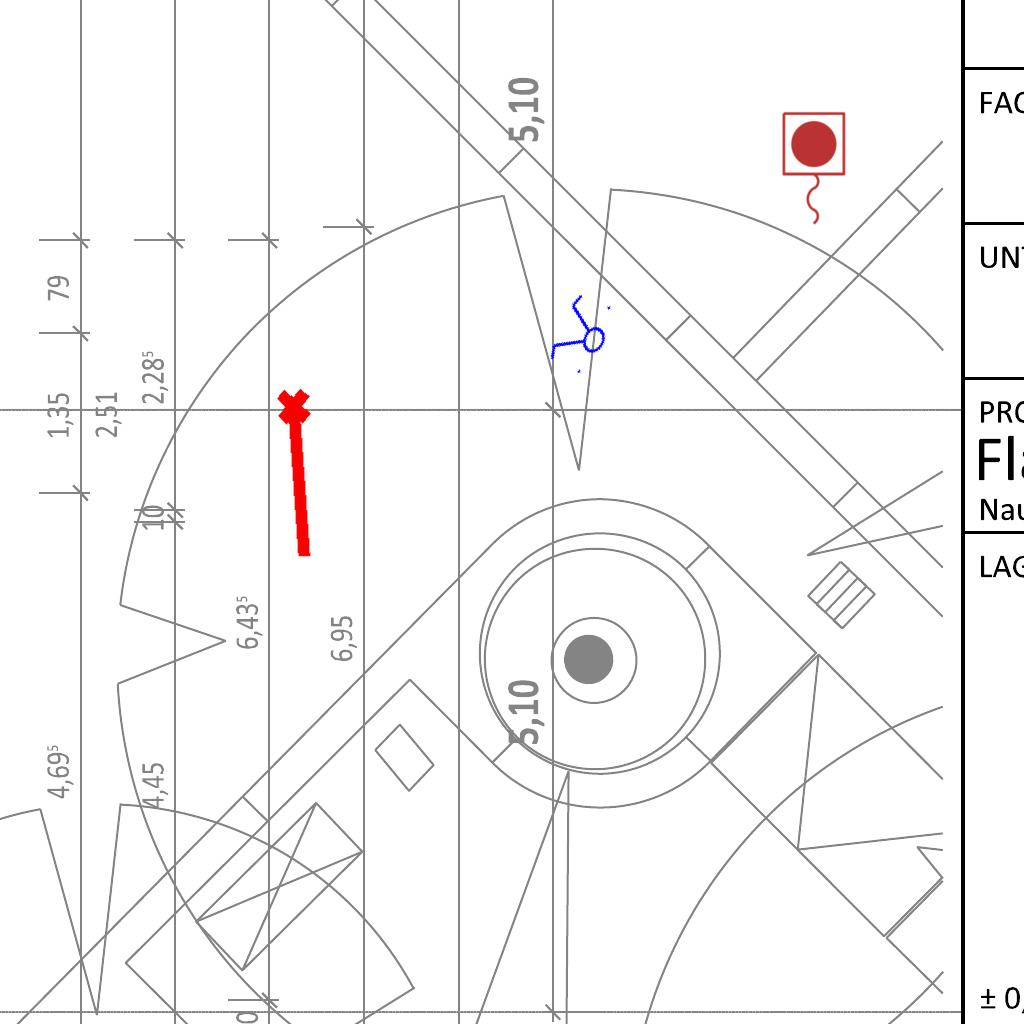ASR_Ansaugoeffnung: (271, 384, 331, 564)
Serienschalter: (542, 286, 622, 384)
Zugtaster: (777, 108, 849, 230)
